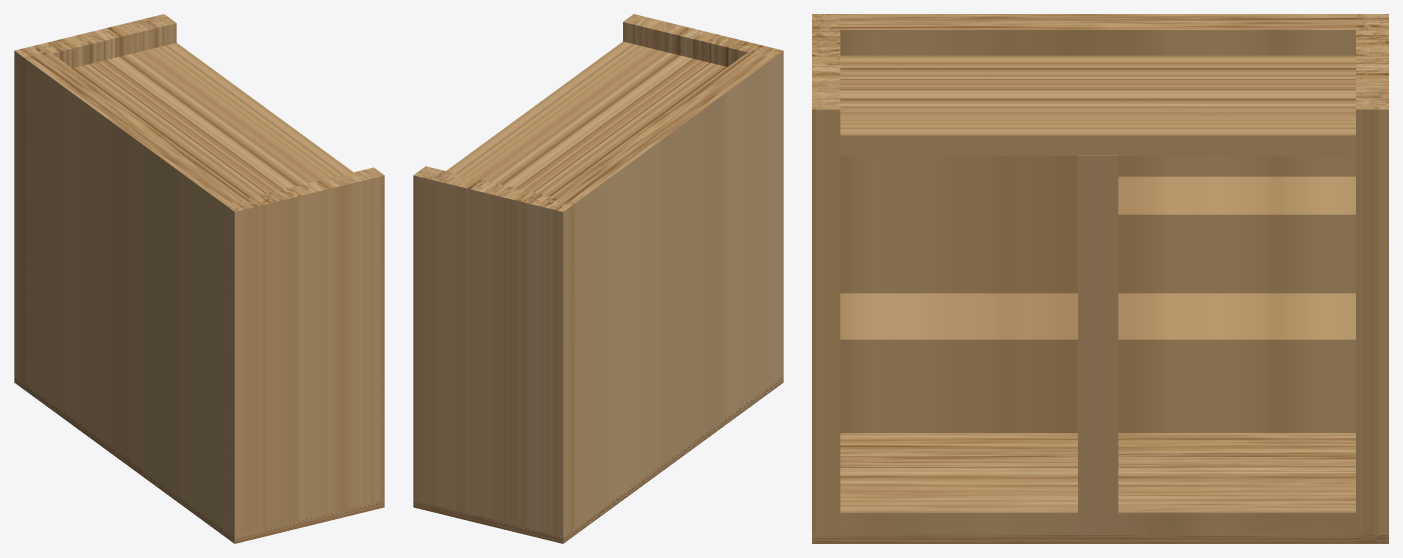
File: lemariii.glb
3 views of the same model, side by side, from view 1: azimuth 30°, elevation 25°; view 2: azimuth 150°, elevation 25°; view 3: azimuth 270°, elevation 25° (orthographic). The views are drawn at different scales.
Visible parts, largest first — view 1: Cube; view 2: Cube; view 3: Cube.
Part boxes in pixels (x1,y1,x2,y2): Cube: (14, 14, 384, 543); Cube: (413, 14, 783, 543); Cube: (812, 14, 1388, 543).
Size of the model in its own units: 2 by 4.23 by 5.09.
Materials: 1 (1 with a texture image).
